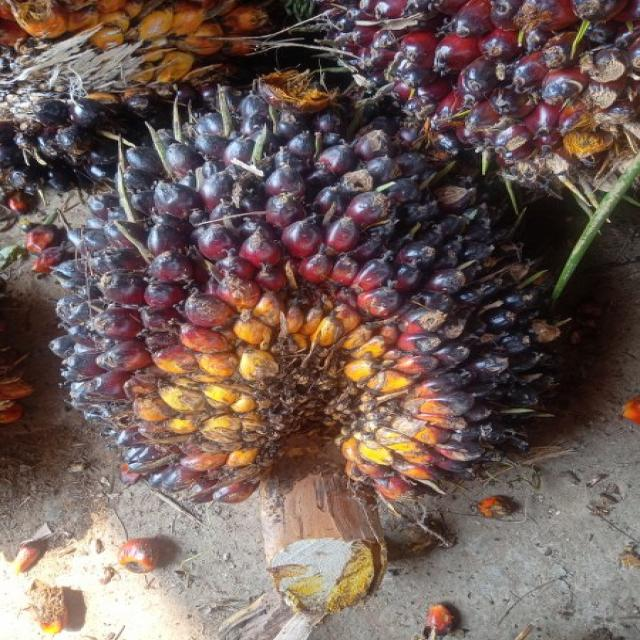fraksi 00: (39, 99, 584, 505)
